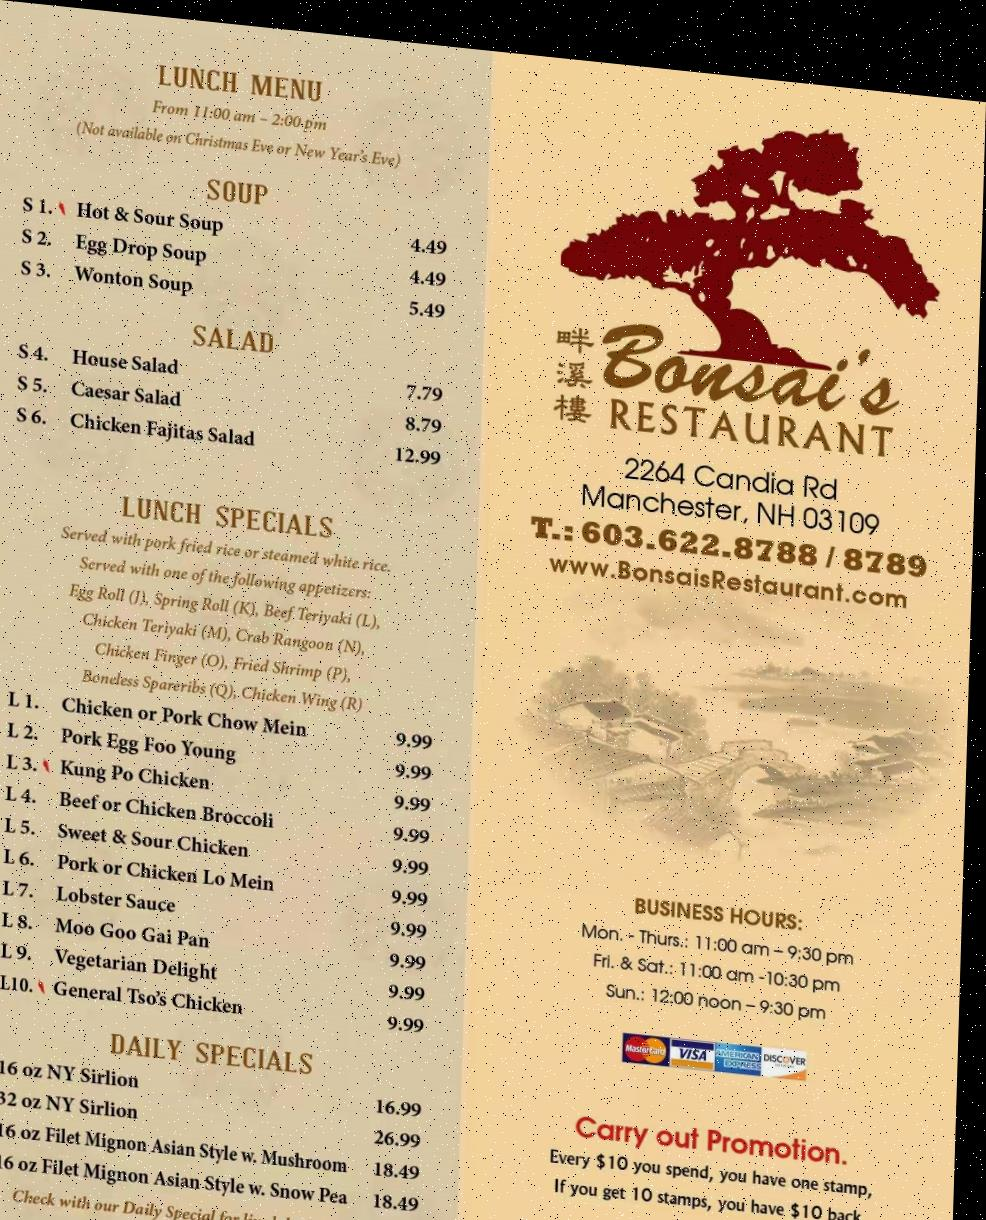Menu-Items: (0, 739, 446, 811), (6, 394, 453, 462), (0, 682, 440, 750), (0, 968, 438, 1036), (0, 902, 444, 970), (2, 1110, 436, 1177), (0, 777, 447, 842), (14, 218, 454, 283), (1, 1053, 447, 1116), (0, 934, 439, 999), (0, 841, 432, 906), (12, 253, 458, 316), (9, 336, 454, 398), (5, 369, 454, 430), (14, 189, 461, 250), (0, 812, 436, 873), (0, 1145, 430, 1206), (0, 877, 436, 934), (0, 716, 451, 769), (0, 1088, 439, 1142)
